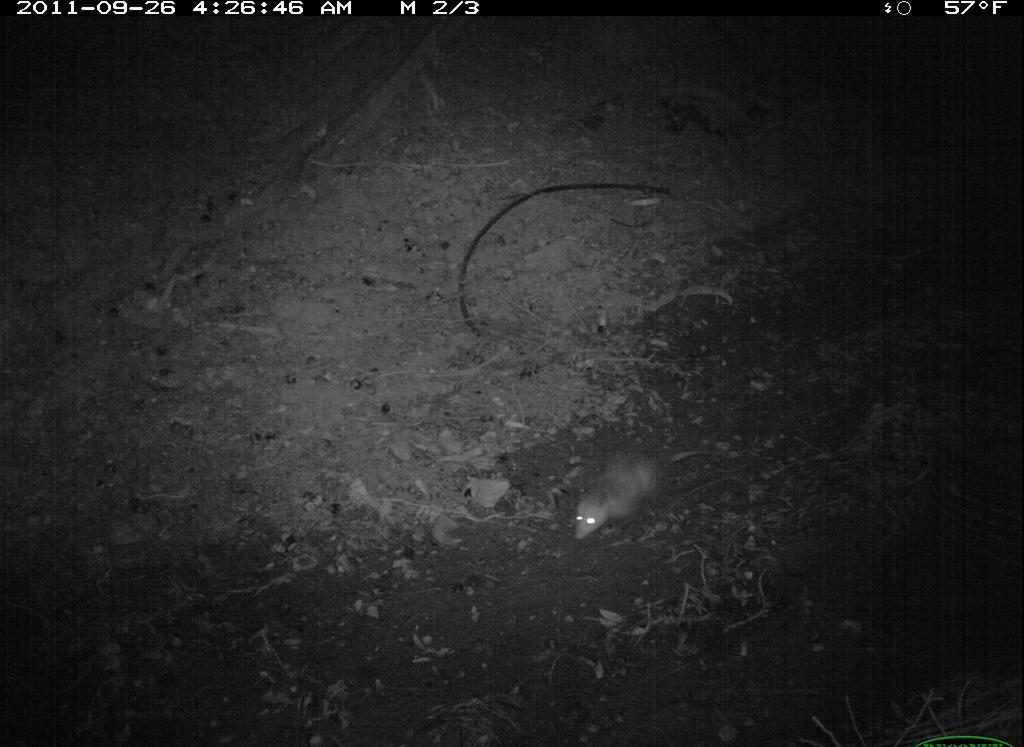opossum: (557, 434, 728, 556)
